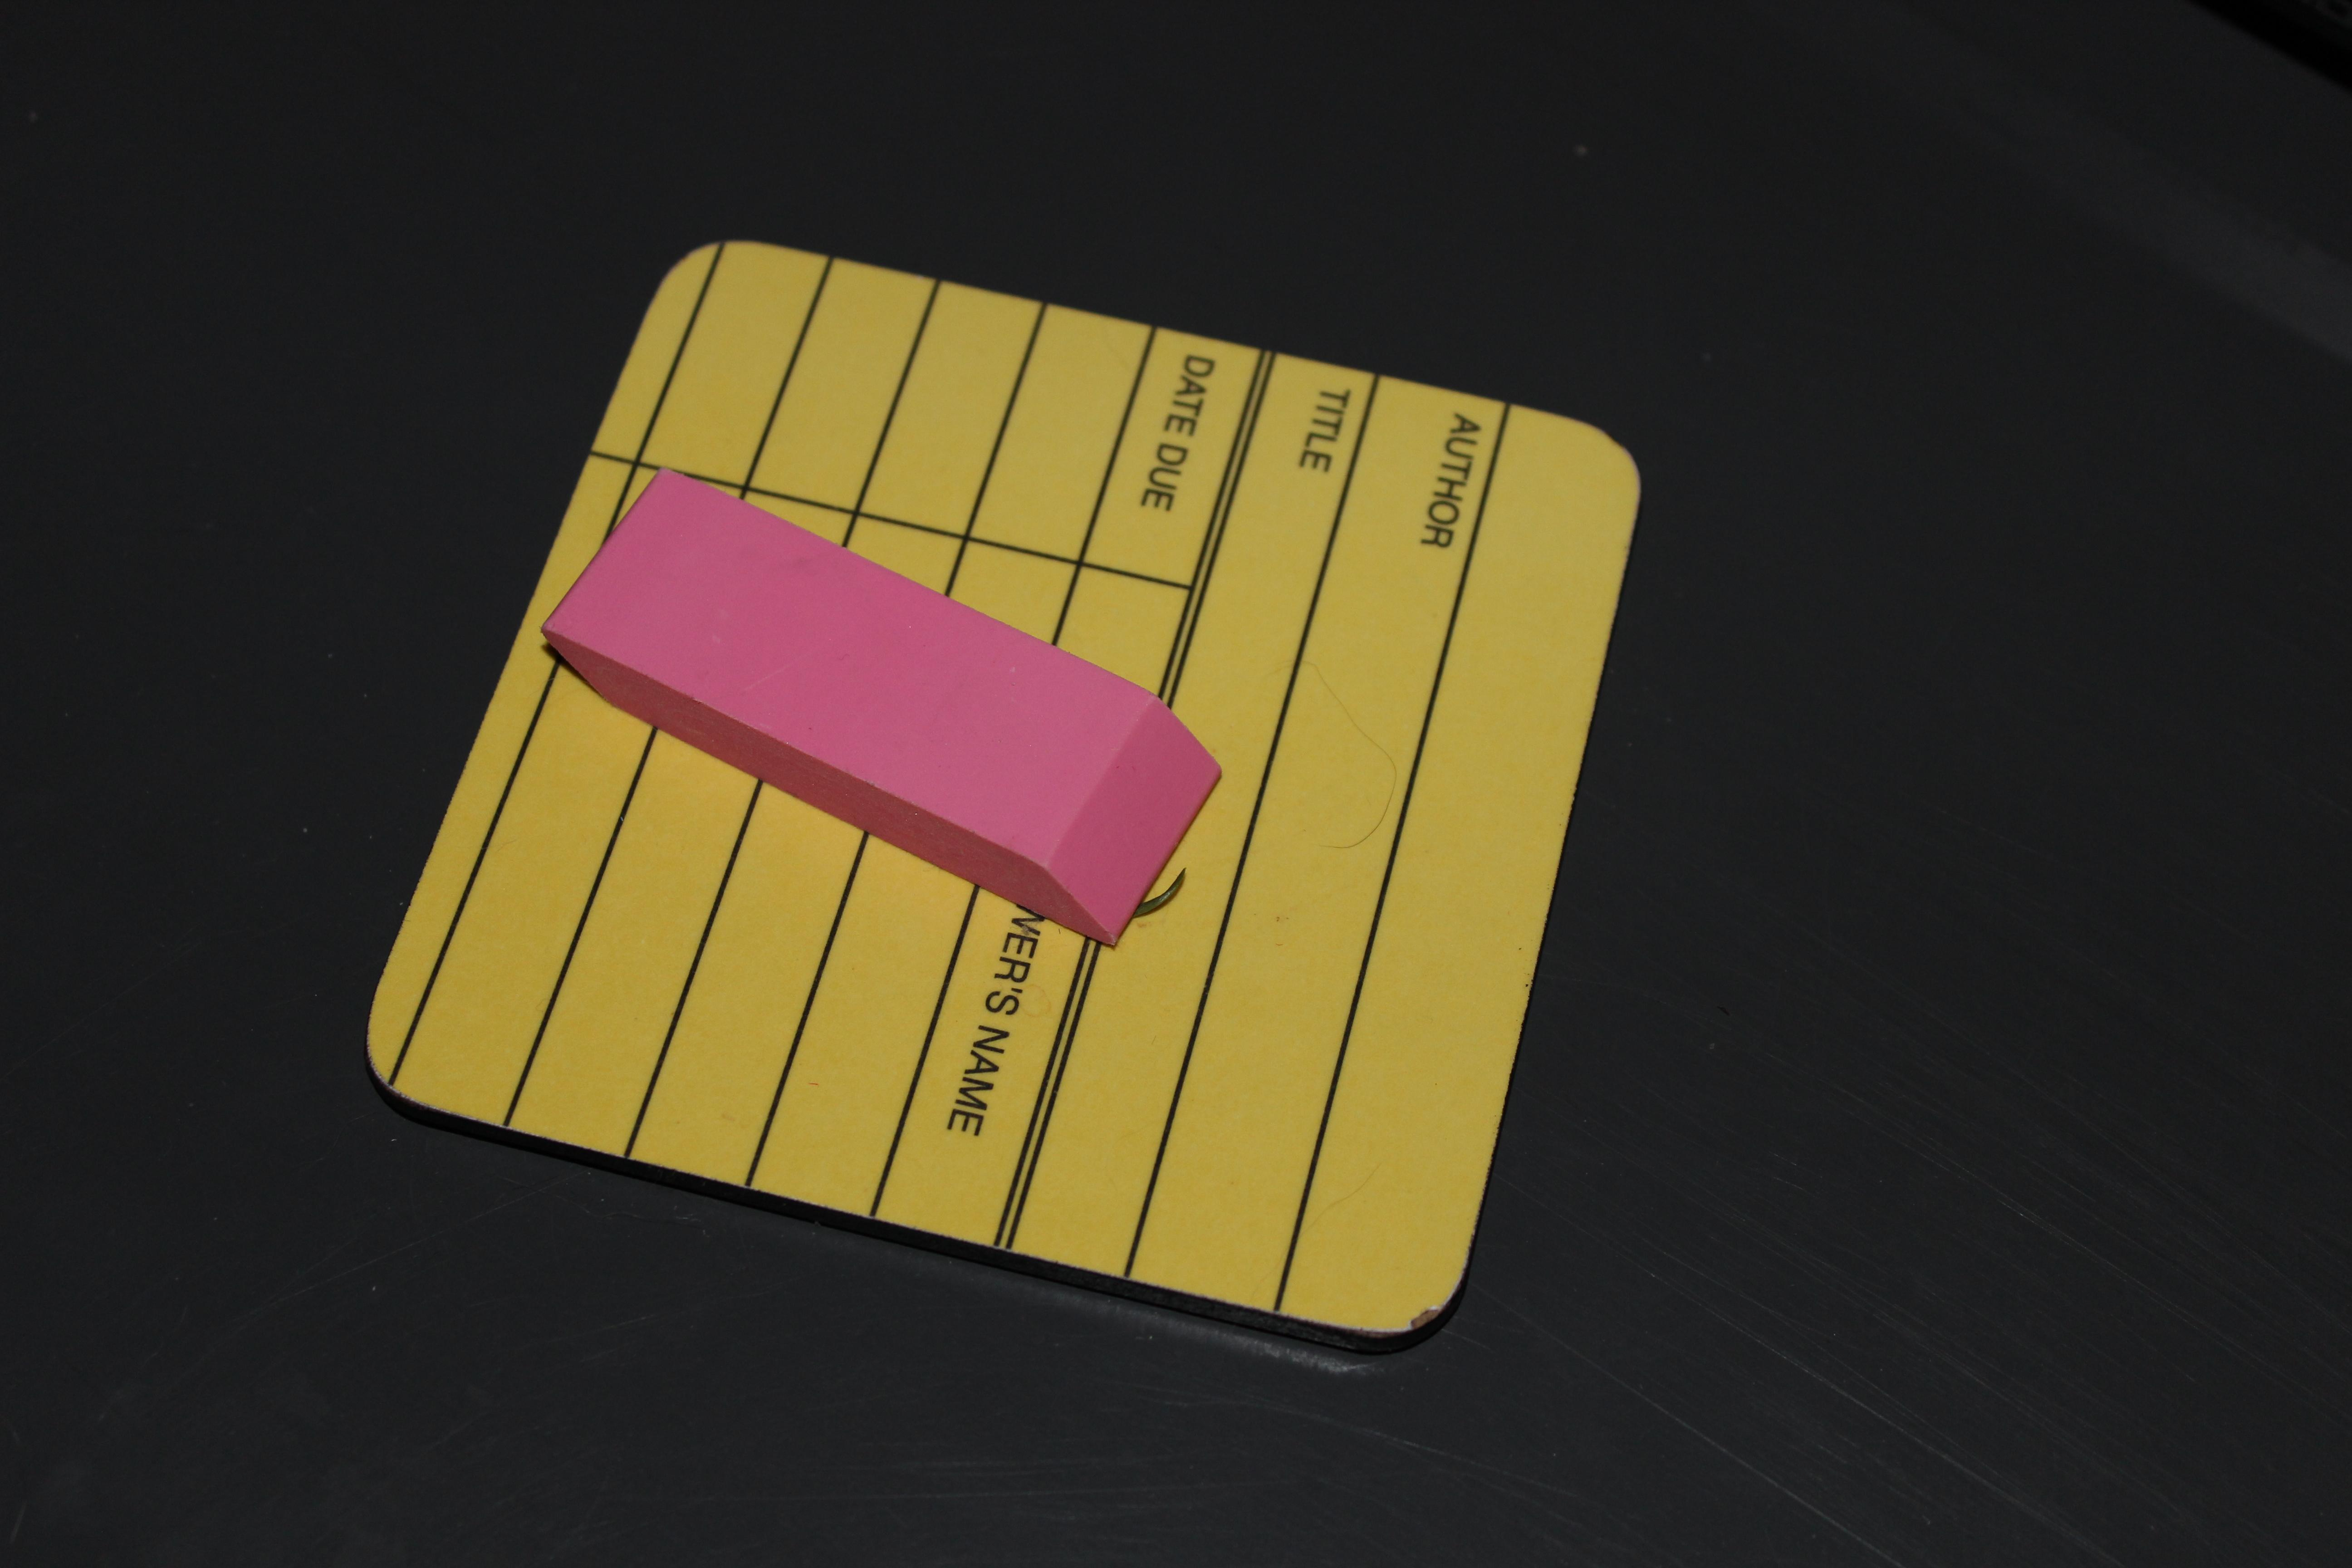pinkEraser: (511, 446, 1253, 973)
